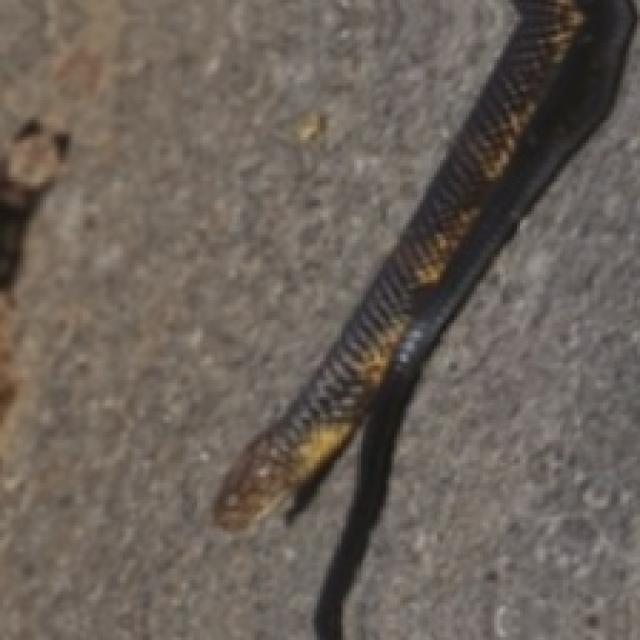king cobra: (214, 0, 634, 637)
